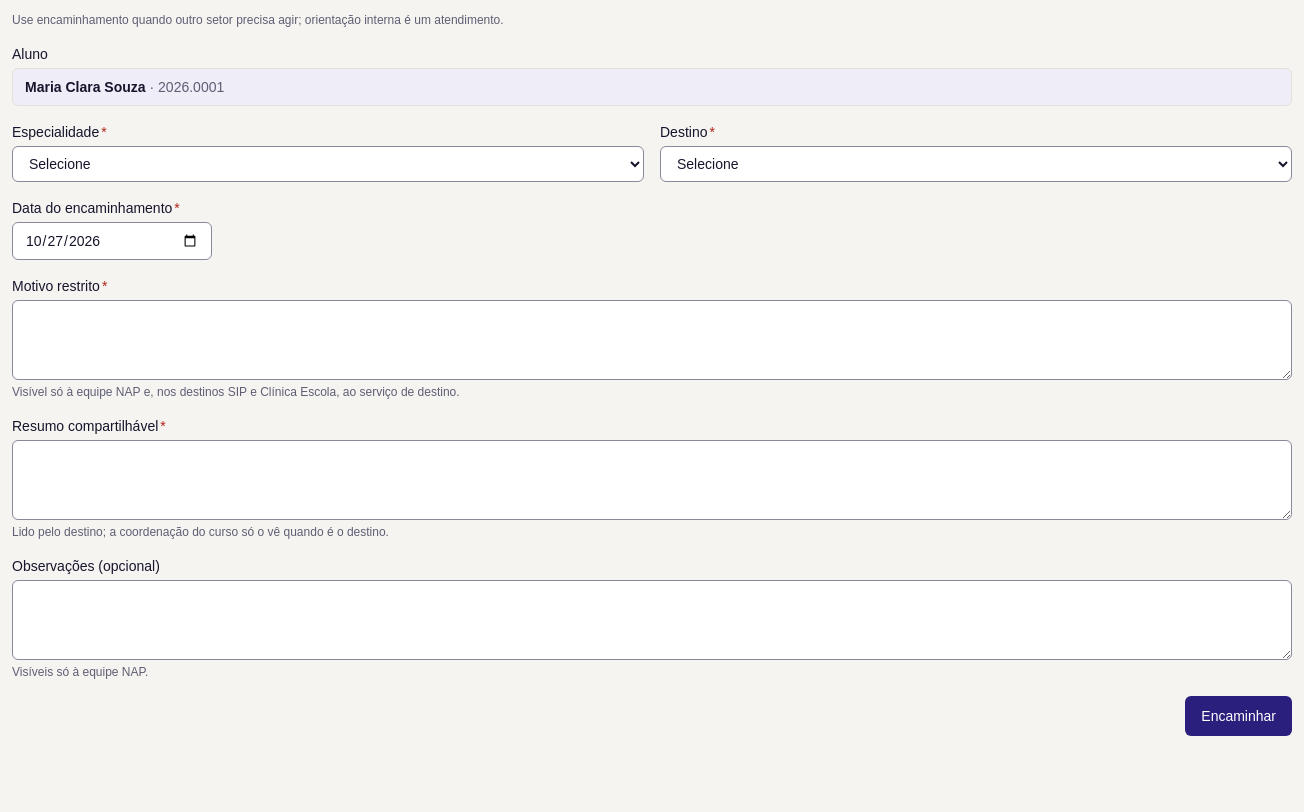
Test case: EncaminhamentoForm › Motivo_restrito_obrigatorio_com_mensagem_em_portugues
Expected: the text "Visível só à equipe NAP e, nos destinos SIP e Clínica Escola, ao serviço de destino." is shown, [12, 385, 460, 399]
Expected: the text "Lido pelo destino; a coordenação do curso só o vê quando é o destino." is shown, [12, 525, 389, 539]
Click the button "Encaminhar". click: (1239, 716)
box: [1185, 696, 1292, 736]
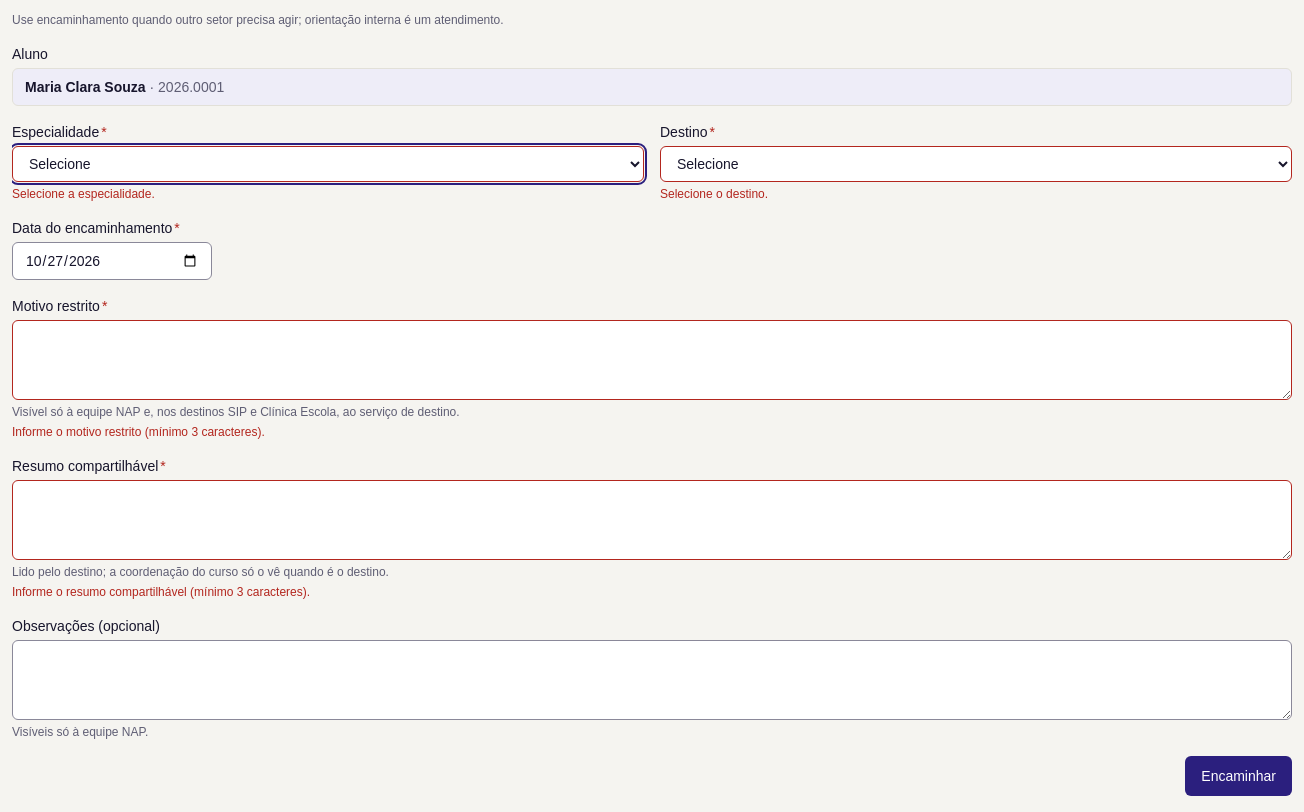
Expected: the text "Informe o motivo restrito (mínimo 3 caracteres)." is shown, [12, 425, 265, 439]
